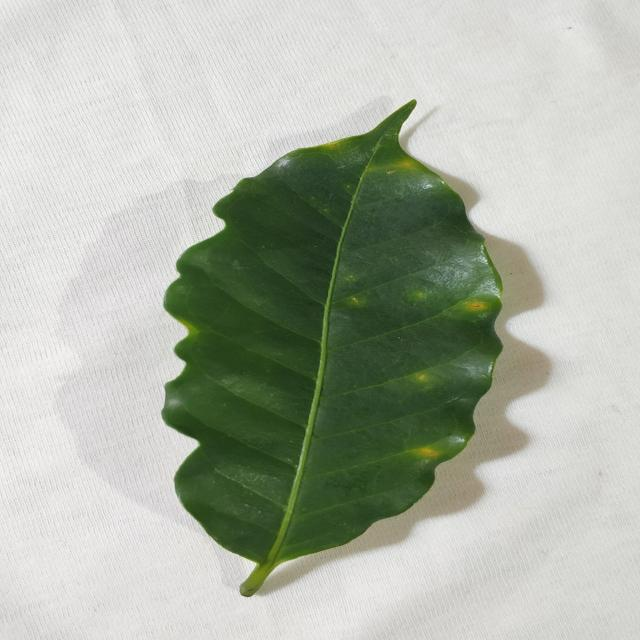Enfermedad-Roya: (161, 101, 504, 600)
